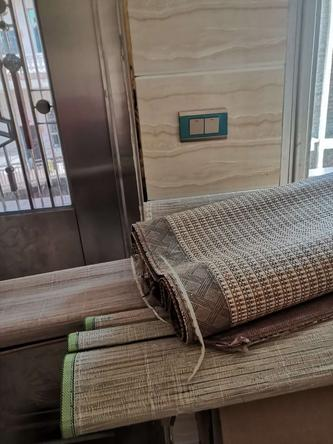switch: (187, 118, 204, 134), (204, 116, 219, 133)
